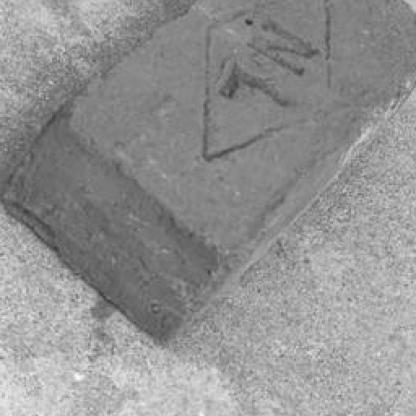brick: (3, 1, 414, 350)
